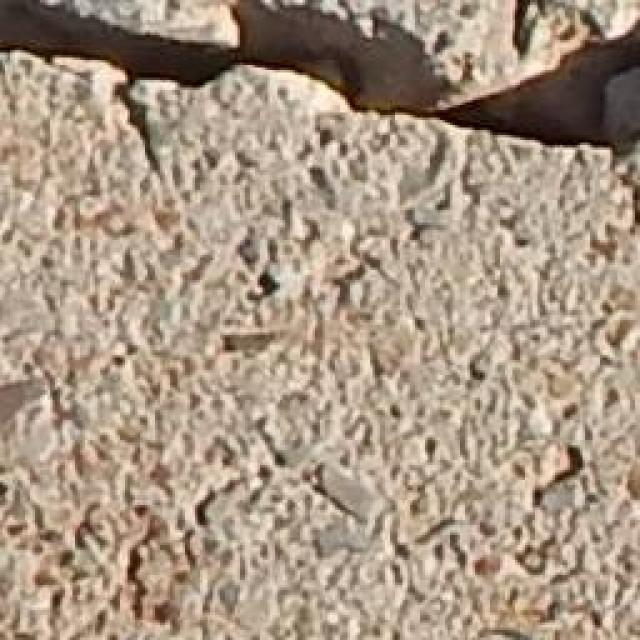concrete-crack: (1, 0, 640, 194)
